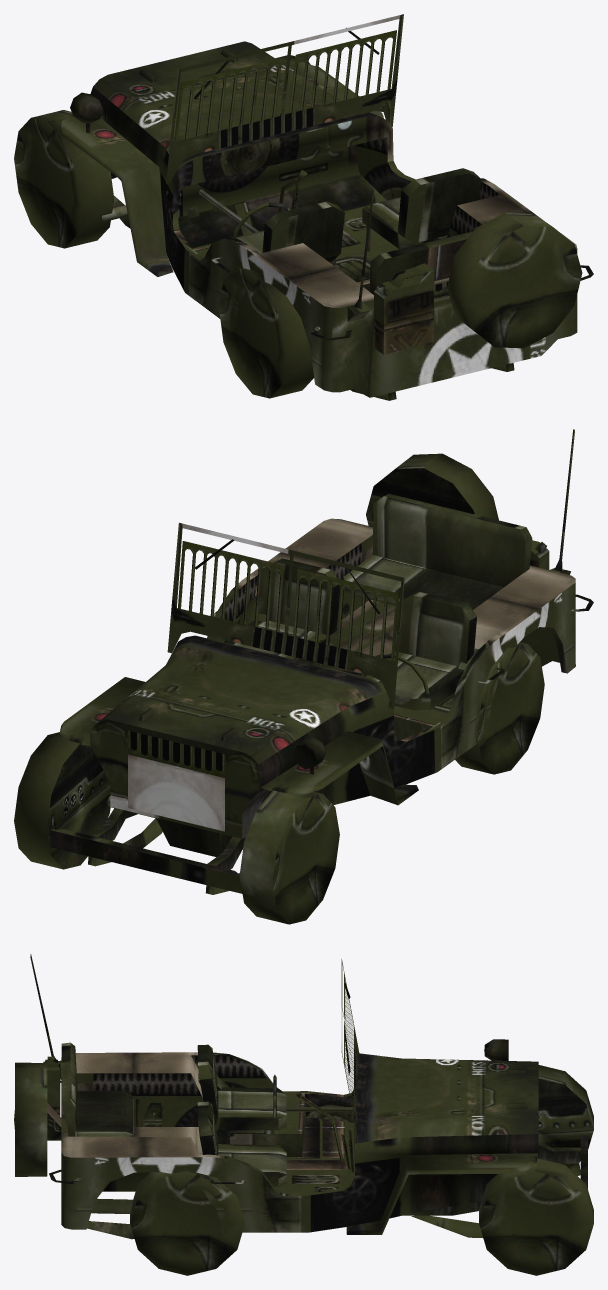
Rendered from willy.glb.
The picture shows the model from 3 angles, top to bottom: view 1: azimuth 30°, elevation 25°; view 2: azimuth 150°, elevation 25°; view 3: azimuth 270°, elevation 25°; orthographic projection. The views are drawn at different scales.
Visible parts, largest first — view 1: willy; view 2: willy; view 3: willy.
Boxes of the visible parts, x1,y1,x2,y2 form: willy: [14, 14, 593, 400]; willy: [14, 429, 593, 924]; willy: [14, 954, 593, 1275].
Bounding box in the file's own units: 1.73 × 1.59 × 3.67.
Materials: 4 (4 with a texture image).
